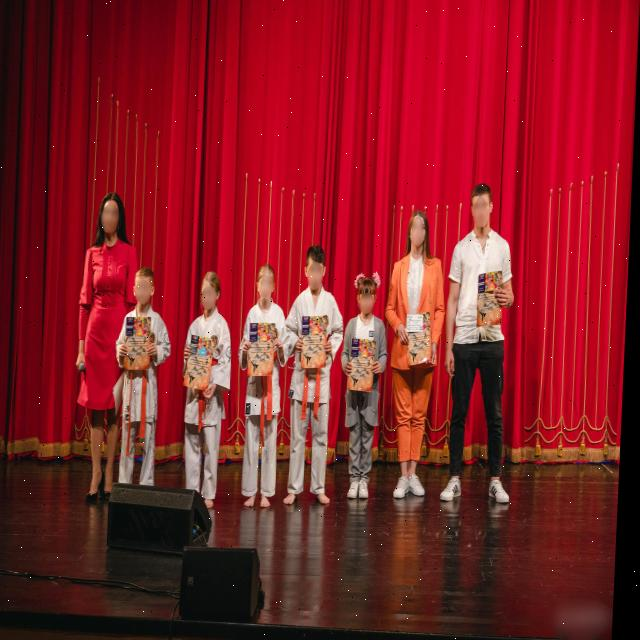Person: (441, 168, 531, 521), (382, 196, 455, 511), (61, 186, 133, 503), (282, 236, 351, 514), (180, 264, 243, 515), (237, 253, 294, 523), (339, 252, 392, 509), (120, 267, 179, 491)
